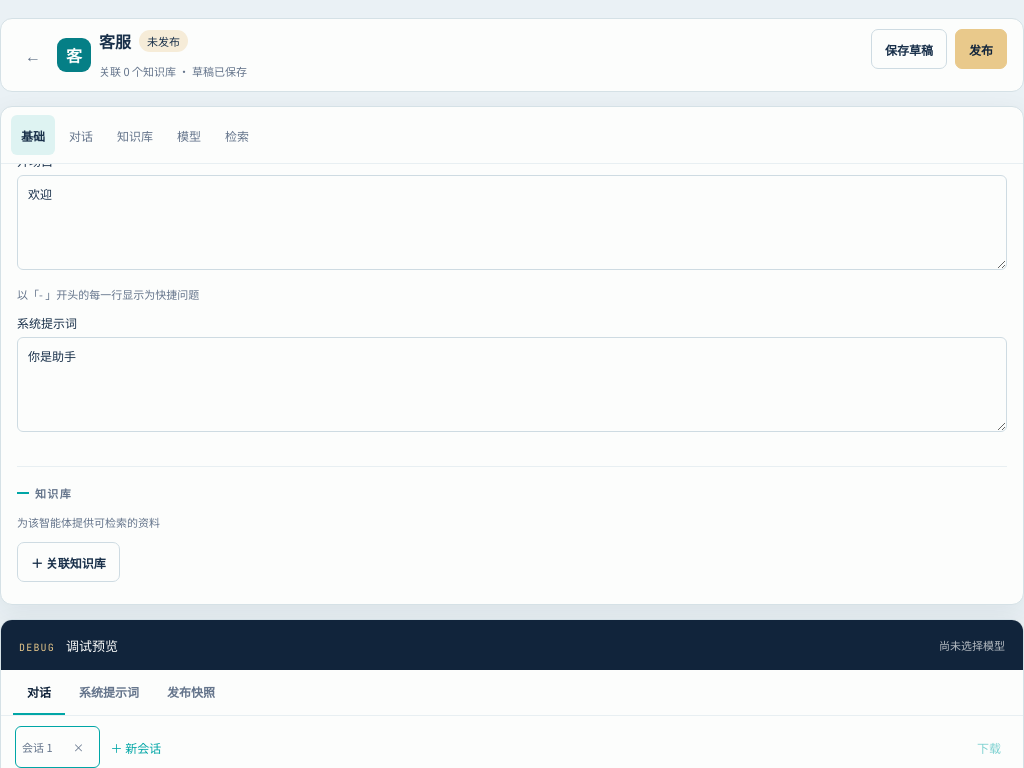
Test: Agent workbench › keeps save feedback out of document flow across repeated prompt autosaves
The width and height of the screenshot is (1024, 768).
(page scrolled)
Replace the text in the text box labelled "系统提示词" with "第一轮提示词": (512, 384) x1=17 y1=337 x2=1007 y2=432
Wait 1200 ms
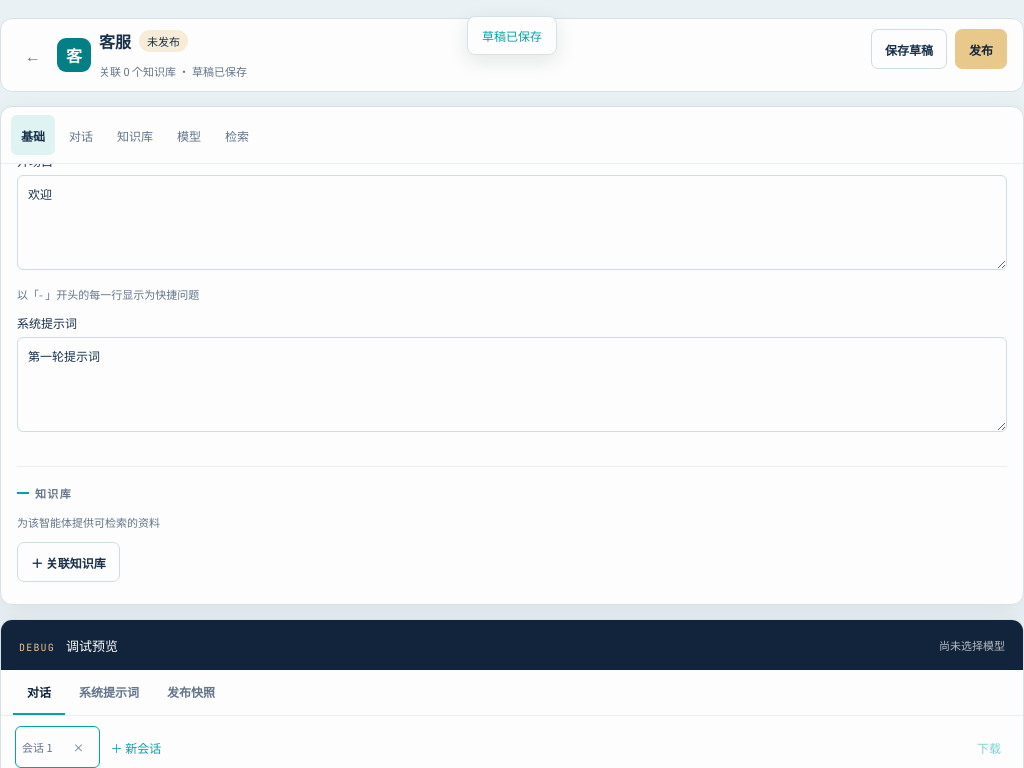
Check: the message "草稿已保存" is shown, box x1=467 y1=16 x2=557 y2=55
Replace the text in the text box labelled "系统提示词" with "第二轮提示词": (512, 384) x1=17 y1=337 x2=1007 y2=432
Wait 1200 ms
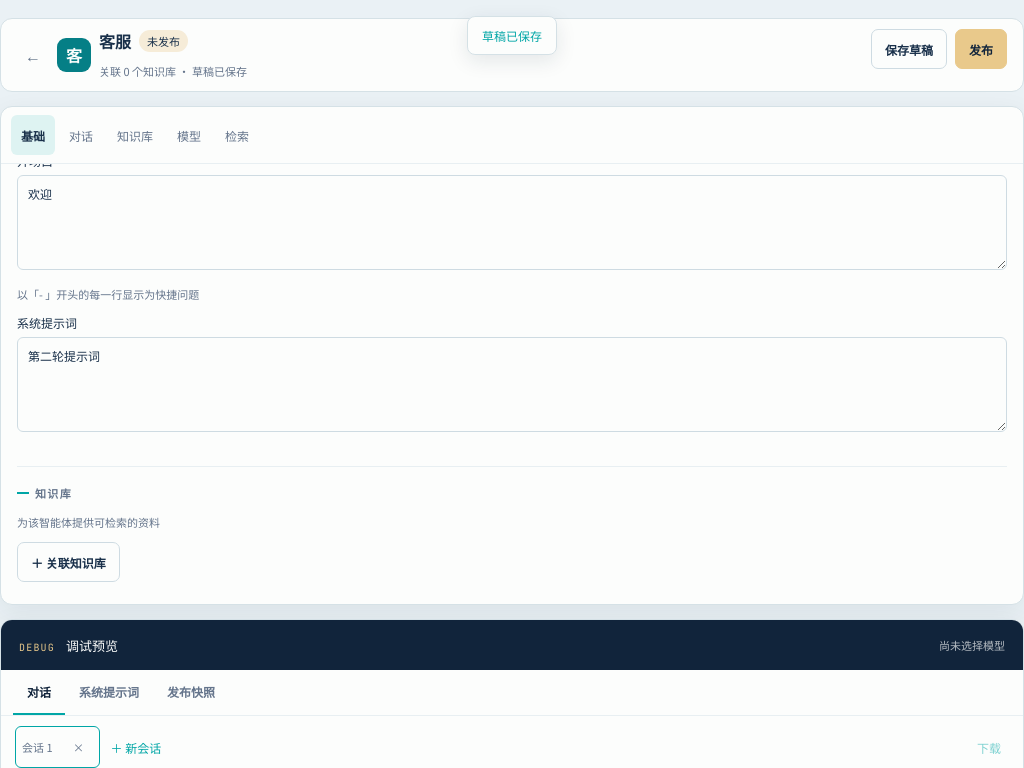
Check: the message "草稿已保存" is shown, box x1=467 y1=16 x2=557 y2=55
Replace the text in the text box labelled "系统提示词" with "待重试提示词": (512, 384) x1=17 y1=337 x2=1007 y2=432
Wait 1200 ms
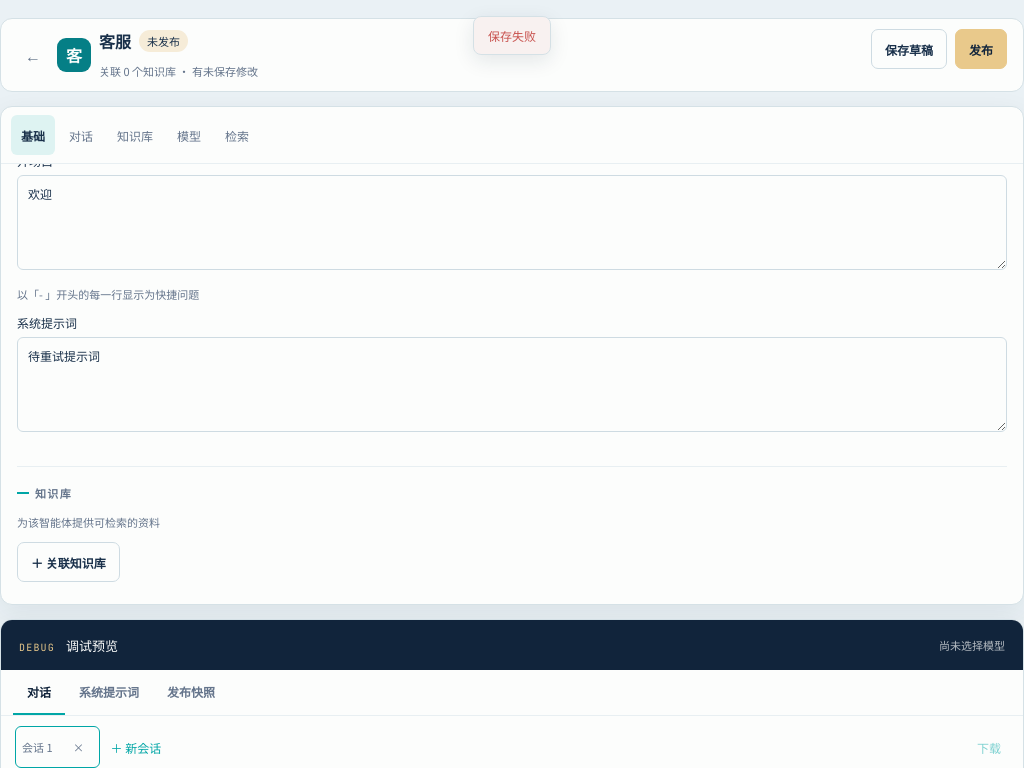
Check: the message "保存失败" is shown, box x1=473 y1=16 x2=551 y2=55
